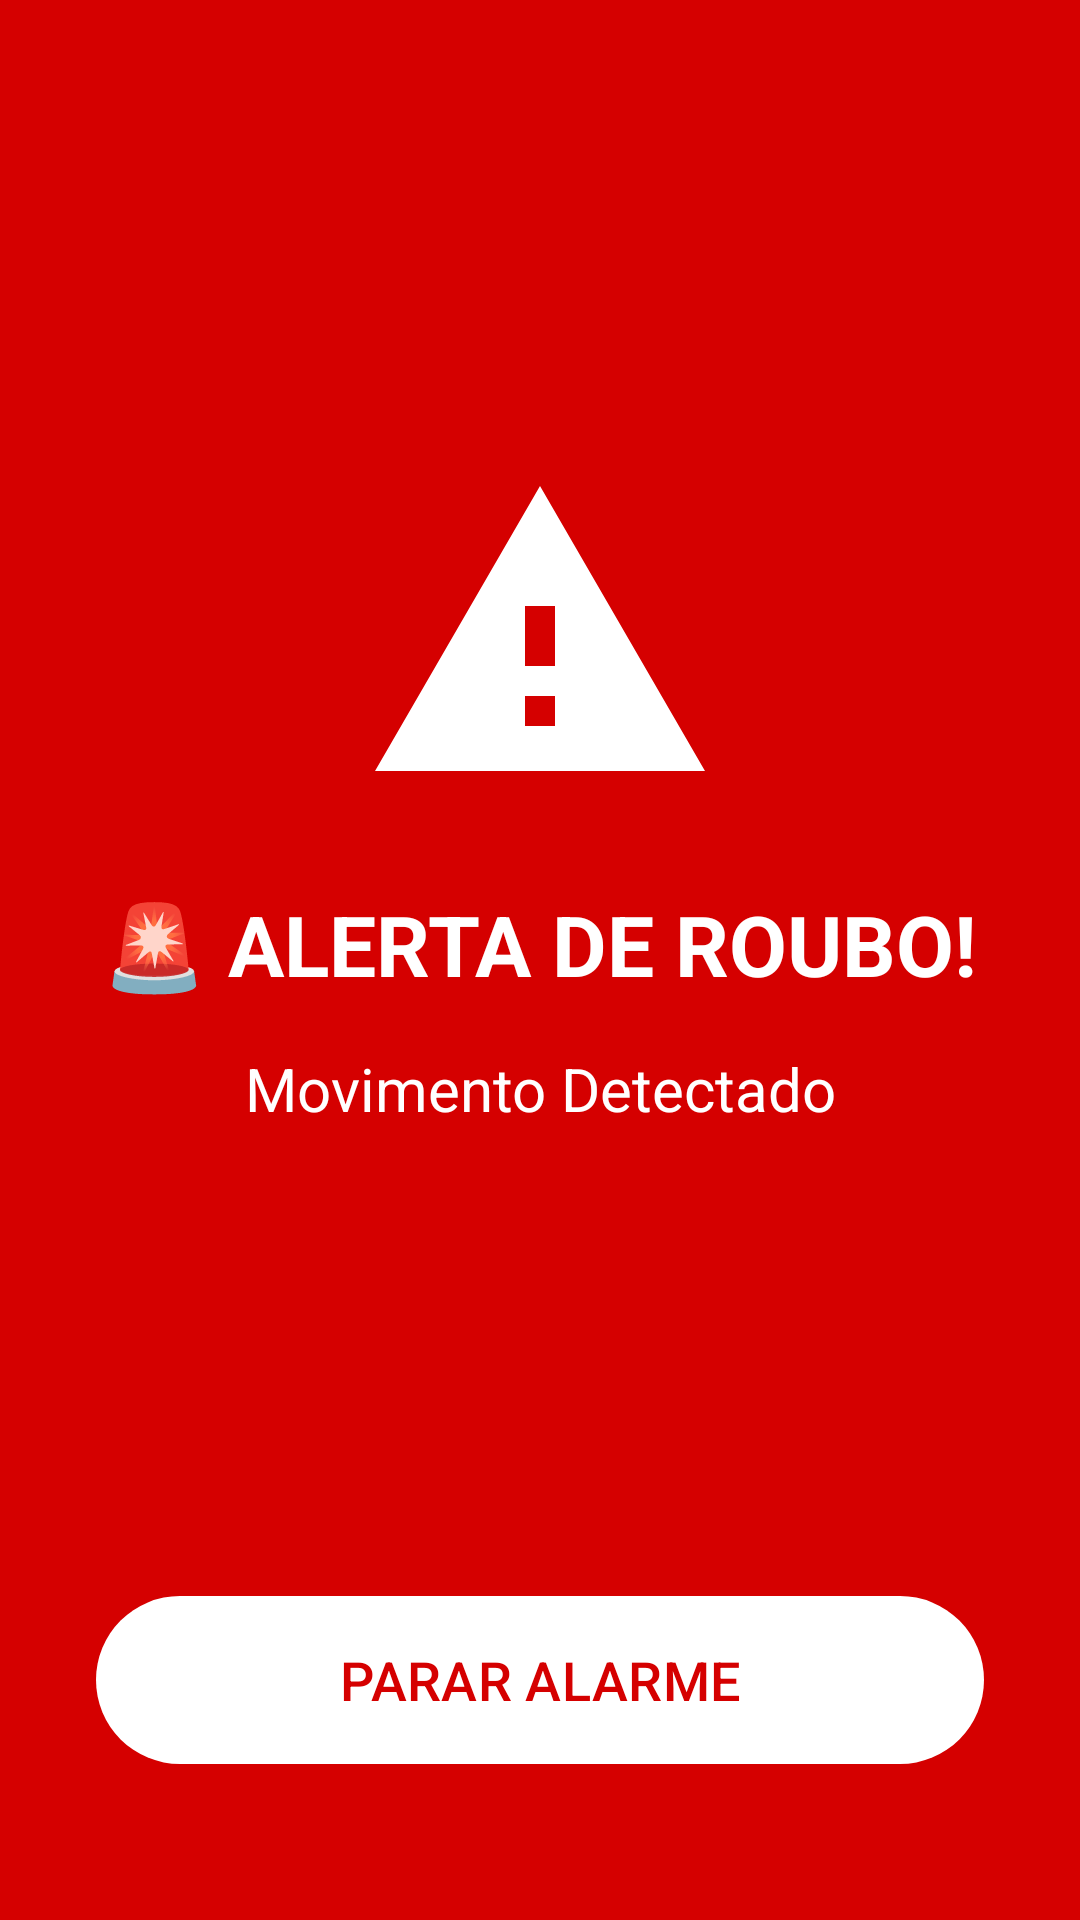

Icons on this 1080x1920 Android screen, each with its box as (x1, y1, x2, y2):
notification alert: (375, 486, 705, 771)
